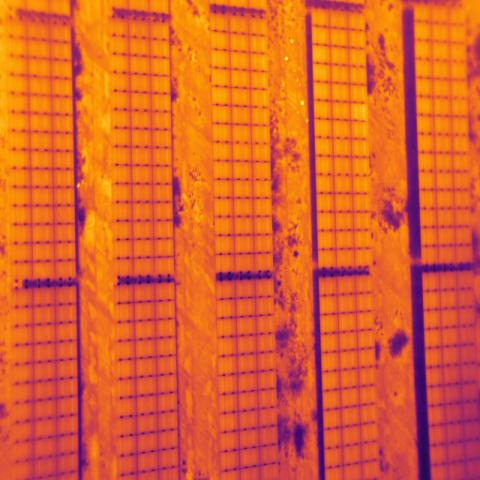fault: (351, 102, 369, 124)
